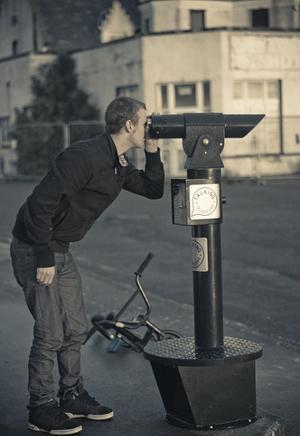person: (11, 98, 164, 436)
